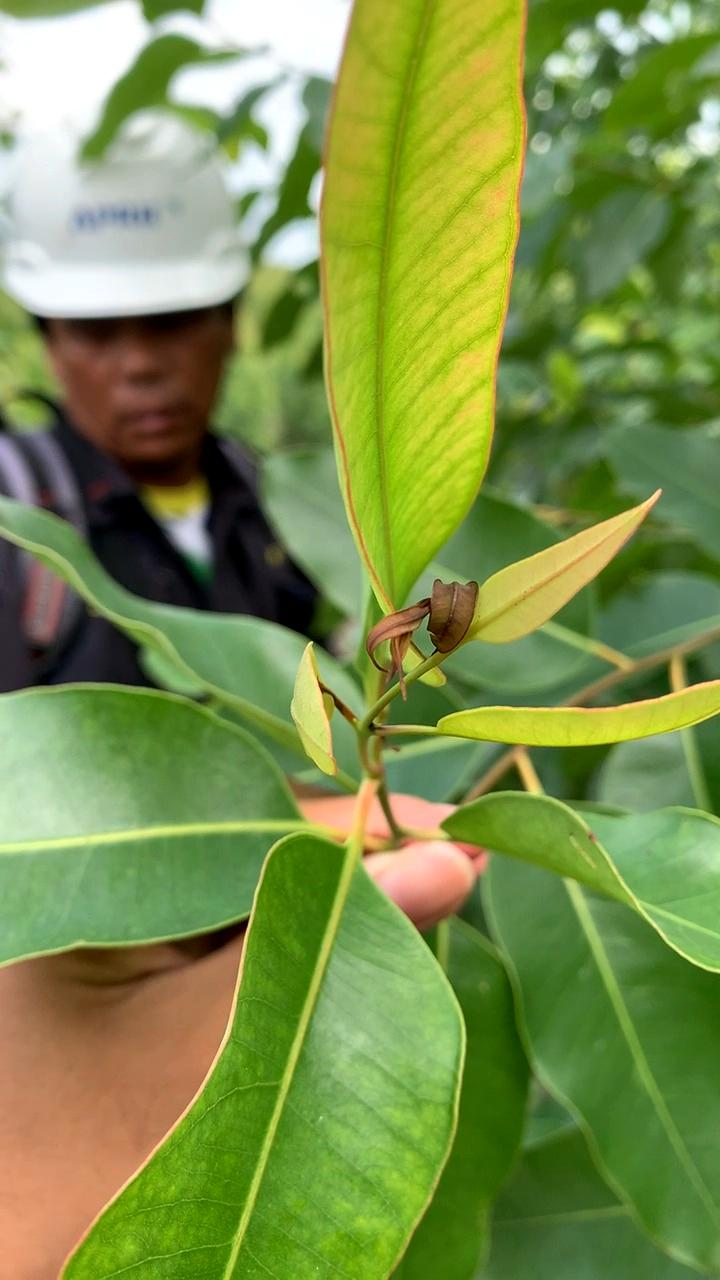Helopeltis-Withered Sprout: (353, 548, 498, 711)
